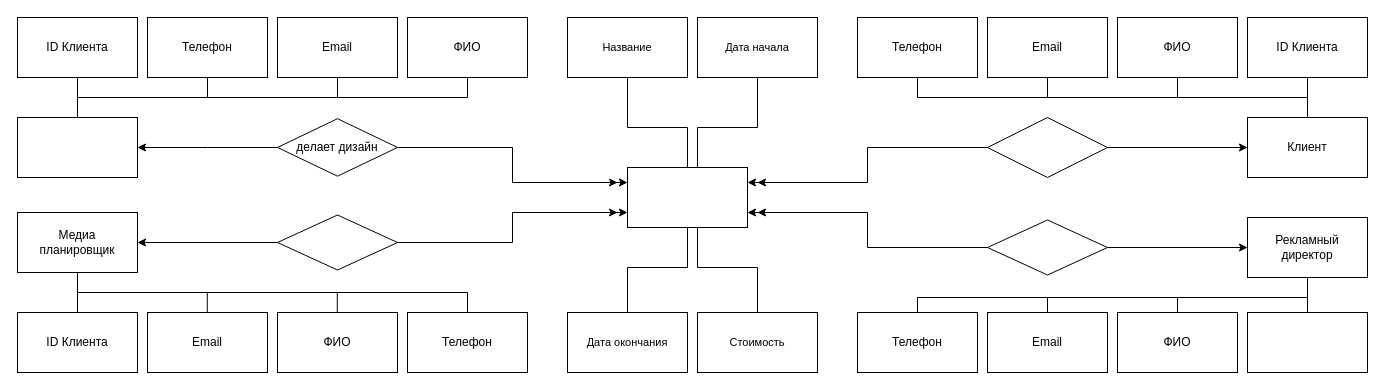
Some shapes in this 1385 by 390 pixel diagram are drawn without their labels. Here are the shapes that lost their labels. From the top down, the centre of each, then its label:
the point at 77,147: Дизайнер
the point at 1047,147: заказывает
the point at 687,197: Рекламная компания
the point at 337,242: планирует
the point at 1047,247: руководит
the point at 1307,342: ID директора
